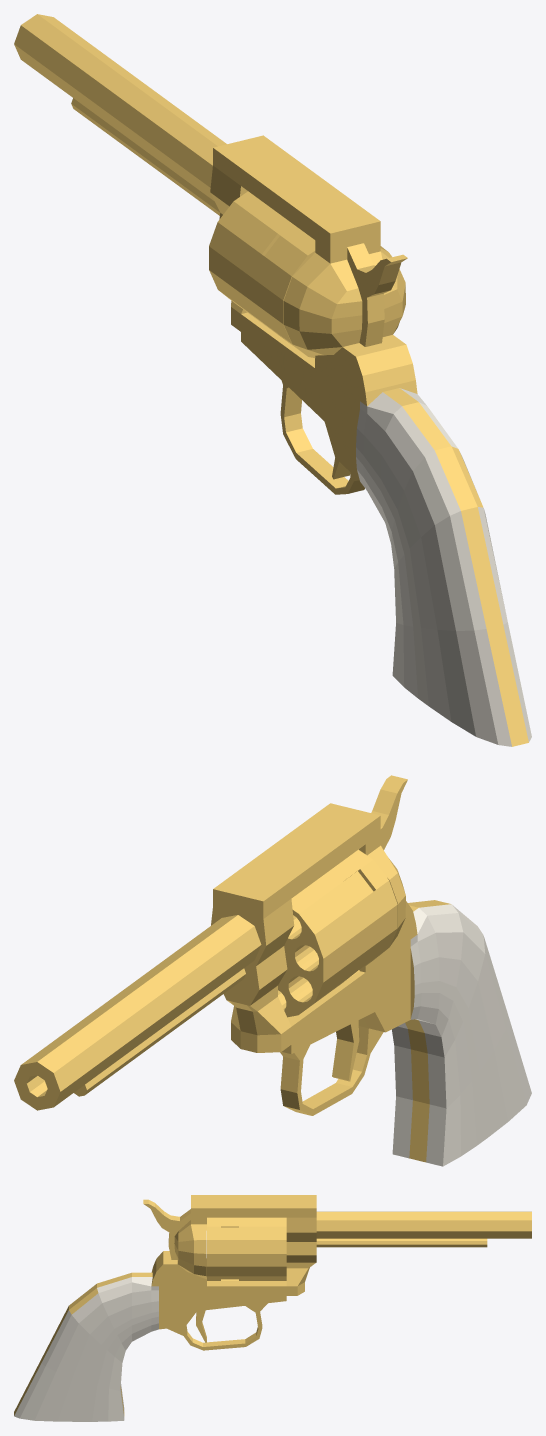
File: golden_revolver.glb
3 renders of one model, top to bottom at view 1: azimuth 30°, elevation 25°; view 2: azimuth 150°, elevation 25°; view 3: azimuth 270°, elevation 25°, orthographic. The views are drawn at different scales.
Visible parts, largest first — view 1: Body, Drum; view 2: Body, Drum; view 3: Body, Drum.
Boxes of the visible parts, x1,y1,x2,y2 form: Body: [14, 14, 531, 746]; Drum: [209, 191, 387, 357]; Body: [14, 775, 531, 1166]; Drum: [278, 849, 397, 1017]; Body: [14, 1195, 531, 1421]; Drum: [207, 1217, 286, 1280].
Bounding box in the file's own units: 0.0629 × 0.2083 × 0.46.
